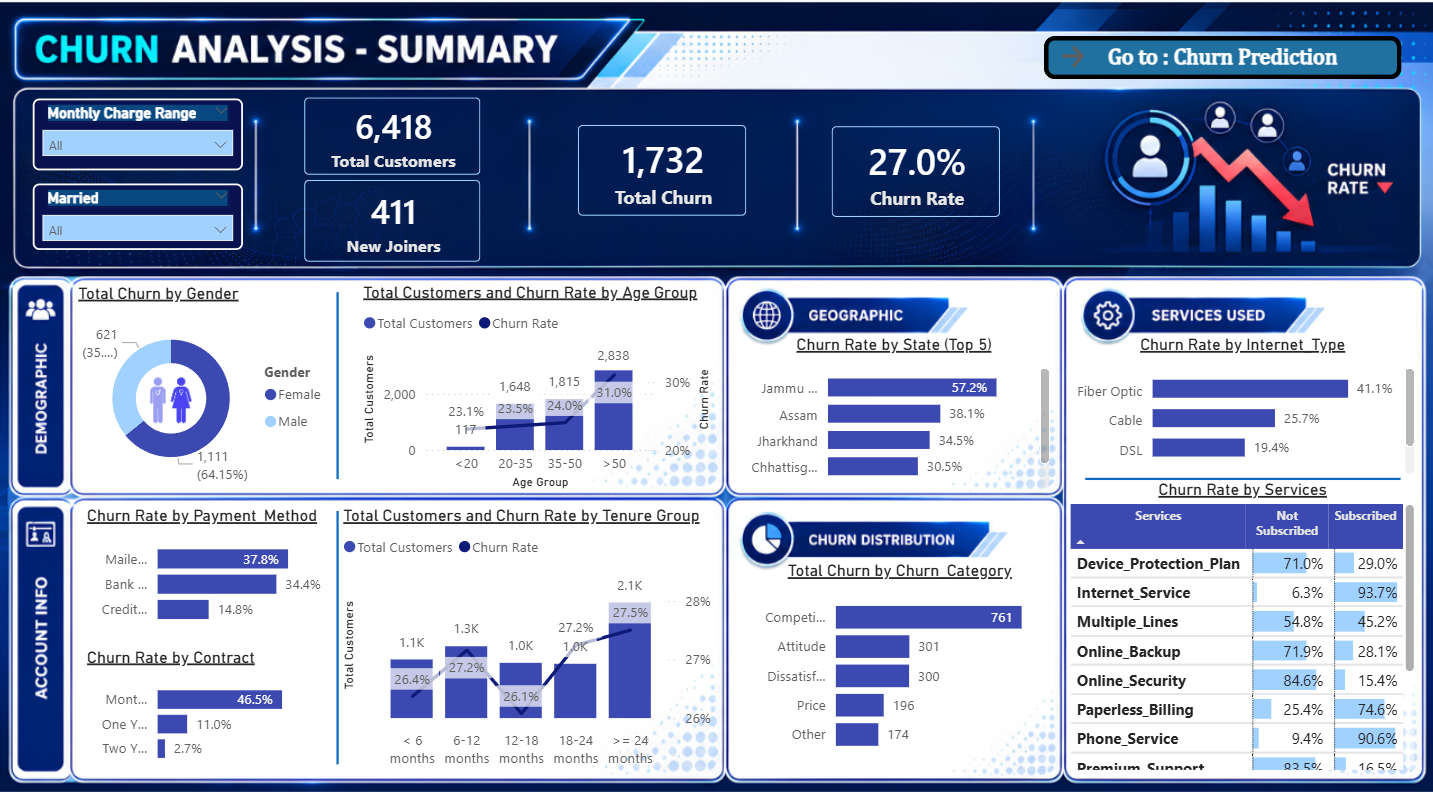

Layout of this report page (visuals, bound fields, positions):
{"tool":"powerbi","page":{"name":"Summary","canvas":[1280,720],"ordinal":0},"visuals":[{"type":"image","box":[124.3,333,56.7,53.1],"z":0},{"type":"cardVisual","fields":{"Data":["tbl_Measure.Total Customers"]},"box":[254.6,73.6,191.8,103.8],"z":1000},{"type":"cardVisual","fields":{"Data":["tbl_Measure.New Joiners"]},"box":[254.6,147.2,191.8,107.4],"z":2000},{"type":"cardVisual","fields":{"Data":["tbl_Measure.Total Churn"]},"box":[498.3,97.7,184.6,115.8],"z":3000},{"type":"cardVisual","fields":{"Data":["tbl_Measure.Churn Rate"]},"box":[725.1,98.9,184.6,115.8],"z":4000},{"type":"donutChart","fields":{"Category":["prod_Churn.Gender"],"Y":["tbl_Measure.Total Churn"]},"box":[65.1,255.8,236.5,188.2],"z":5000},{"type":"lineStackedColumnComboChart","fields":{"Category":["mapping_AgeGrp.Age Group"],"Y":["tbl_Measure.Total Customers"],"Y2":["tbl_Measure.Churn Rate"]},"box":[319.7,254.6,319.7,189.4],"z":6000},{"type":"clusteredBarChart","fields":{"Category":["prod_Churn.Payment_Method"],"Y":["tbl_Measure.Churn Rate"]},"box":[73.6,453.6,222,115.8],"z":7000},{"type":"clusteredBarChart","fields":{"Category":["prod_Churn.Contract"],"Y":["tbl_Measure.Churn Rate"]},"box":[73.6,580.3,222,113.4],"z":8000},{"type":"lineStackedColumnComboChart","fields":{"Category":["mapping_TenureGrp.Tenure Grp"],"Y":["tbl_Measure.Total Customers"],"Y2":["tbl_Measure.Churn Rate"]},"box":[301.6,453.6,337.8,240.1],"z":9000},{"type":"clusteredBarChart","title":"Churn Rate by State (Top 5)","fields":{"Category":["prod_Churn.State"],"Y":["tbl_Measure.Churn Rate"]},"box":[653.9,301.6,287.1,142.4],"z":10000},{"type":"clusteredBarChart","fields":{"Category":["prod_Churn.Churn_Category"],"Y":["tbl_Measure.Total Churn"]},"box":[663.5,503.1,277.5,181],"z":11000},{"type":"clusteredBarChart","fields":{"Category":["prod_Churn.Internet_Type"],"Y":["tbl_Measure.Churn Rate"]},"box":[949.5,301.6,316.1,129.1],"z":12000},{"type":"pivotTable","title":"Churn Rate  by Services","fields":{"Rows":["prod_Services.Services"],"Columns":["prod_Services.Status"],"Values":["Sum(prod_Services.Churn Status)"]},"box":[949.5,430.7,316.1,263],"z":13000},{"type":"slicer","fields":{"Values":["prod_Churn.Monthly Charged Status"]},"box":[30.2,91.7,187,63.9],"z":14000},{"type":"slicer","fields":{"Values":["prod_Churn.Married"]},"box":[30.2,166.5,187,59.1],"z":15000},{"type":"shape","box":[217.2,264.2,168.9,166.5],"z":16000},{"type":"shape","box":[217.2,458.4,168.9,225.6],"z":17000},{"type":"shape","box":[967.6,317.3,281.1,225.6],"z":18000},{"type":"shape","box":[930.4,35.7,318.4,38.4],"z":19000}]}

Visuals, with their boxes in screenshot pixels (x1, y1, x2, y2), scaled from the page's 1280x720 canvas onto the 1433x792 screenshot:
image: 139,366,203,425
cardVisual - tbl_Measure.Total Customers: 285,81,500,195
cardVisual - tbl_Measure.New Joiners: 285,162,500,280
cardVisual - tbl_Measure.Total Churn: 558,107,765,235
cardVisual - tbl_Measure.Churn Rate: 812,109,1018,236
donutChart - prod_Churn.Gender x tbl_Measure.Total Churn: 73,281,338,488
lineStackedColumnComboChart - mapping_AgeGrp.Age Group x tbl_Measure.Total Customers: 358,280,716,488
clusteredBarChart - prod_Churn.Payment_Method x tbl_Measure.Churn Rate: 82,499,331,626
clusteredBarChart - prod_Churn.Contract x tbl_Measure.Churn Rate: 82,638,331,763
lineStackedColumnComboChart - mapping_TenureGrp.Tenure Grp x tbl_Measure.Total Customers: 338,499,716,763
"Churn Rate by State (Top 5)" clusteredBarChart: 732,332,1053,488
clusteredBarChart - prod_Churn.Churn_Category x tbl_Measure.Total Churn: 743,553,1053,753
clusteredBarChart - prod_Churn.Internet_Type x tbl_Measure.Churn Rate: 1063,332,1417,474
"Churn Rate  by Services" pivotTable: 1063,474,1417,763
slicer - prod_Churn.Monthly Charged Status: 34,101,243,171
slicer - prod_Churn.Married: 34,183,243,248
shape: 243,291,432,474
shape: 243,504,432,752
shape: 1083,349,1398,597
shape: 1042,39,1398,82
